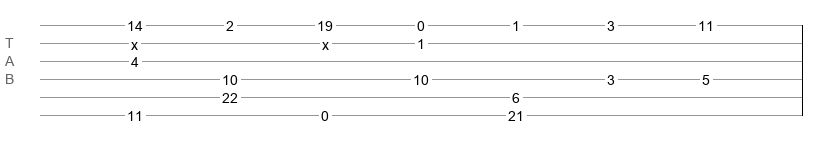0: (321, 108, 329, 118), (417, 18, 425, 28)
1: (417, 36, 425, 46), (512, 18, 520, 28)
10: (222, 72, 238, 82), (413, 72, 429, 82)
11: (127, 108, 143, 118), (698, 18, 714, 28)
14: (127, 18, 143, 28)
19: (317, 18, 333, 28)
2: (226, 18, 234, 28)
21: (508, 108, 524, 118)
22: (222, 90, 238, 100)
3: (607, 18, 615, 28), (607, 72, 615, 82)
4: (131, 54, 139, 64)
5: (702, 72, 710, 82)
6: (512, 90, 520, 100)
x: (131, 37, 138, 45), (322, 37, 329, 45)
